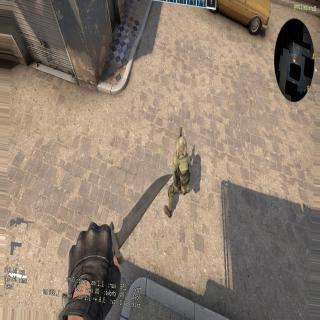CT-Body: (167, 135, 195, 201)
CT-Head: (176, 135, 188, 158)
